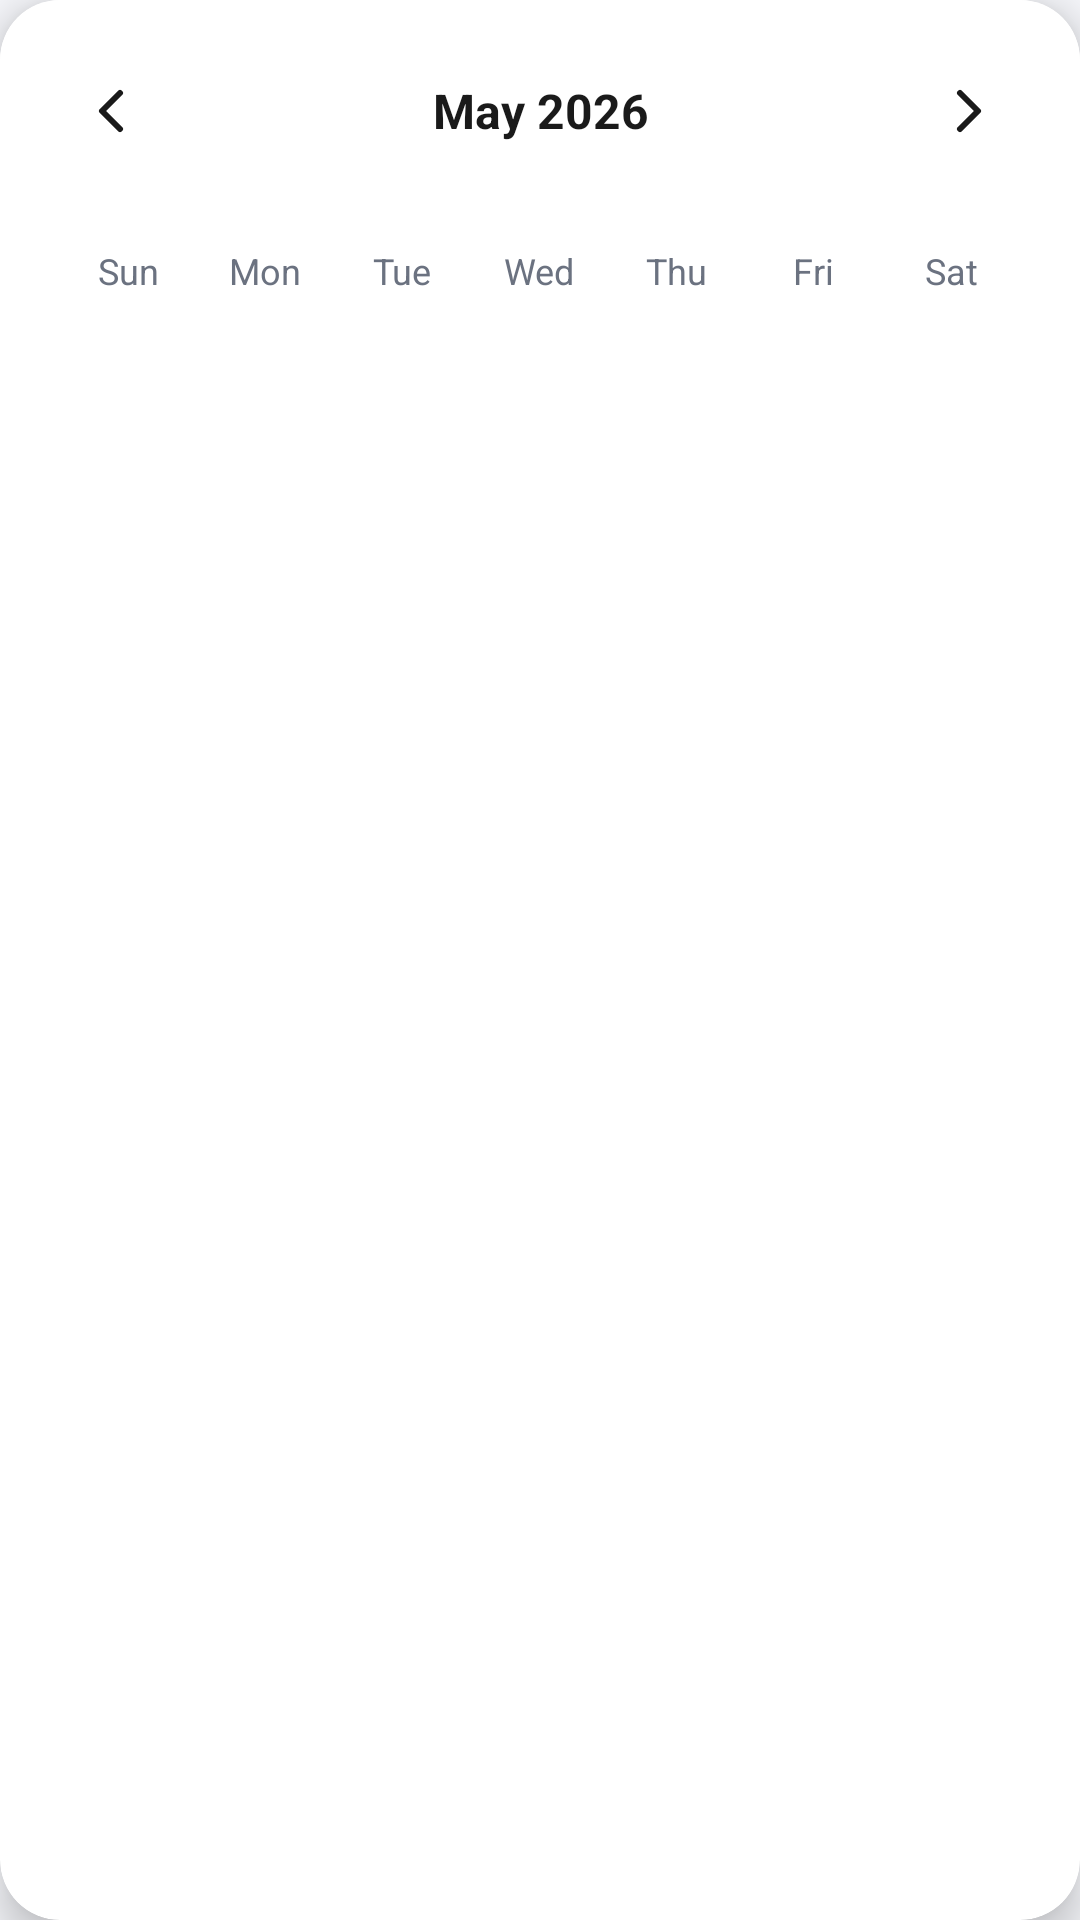

Where to tap for icons on this 1080*1920 app screen, as [x,y]:
Next month: [969,111]
Previous month: [111,111]
